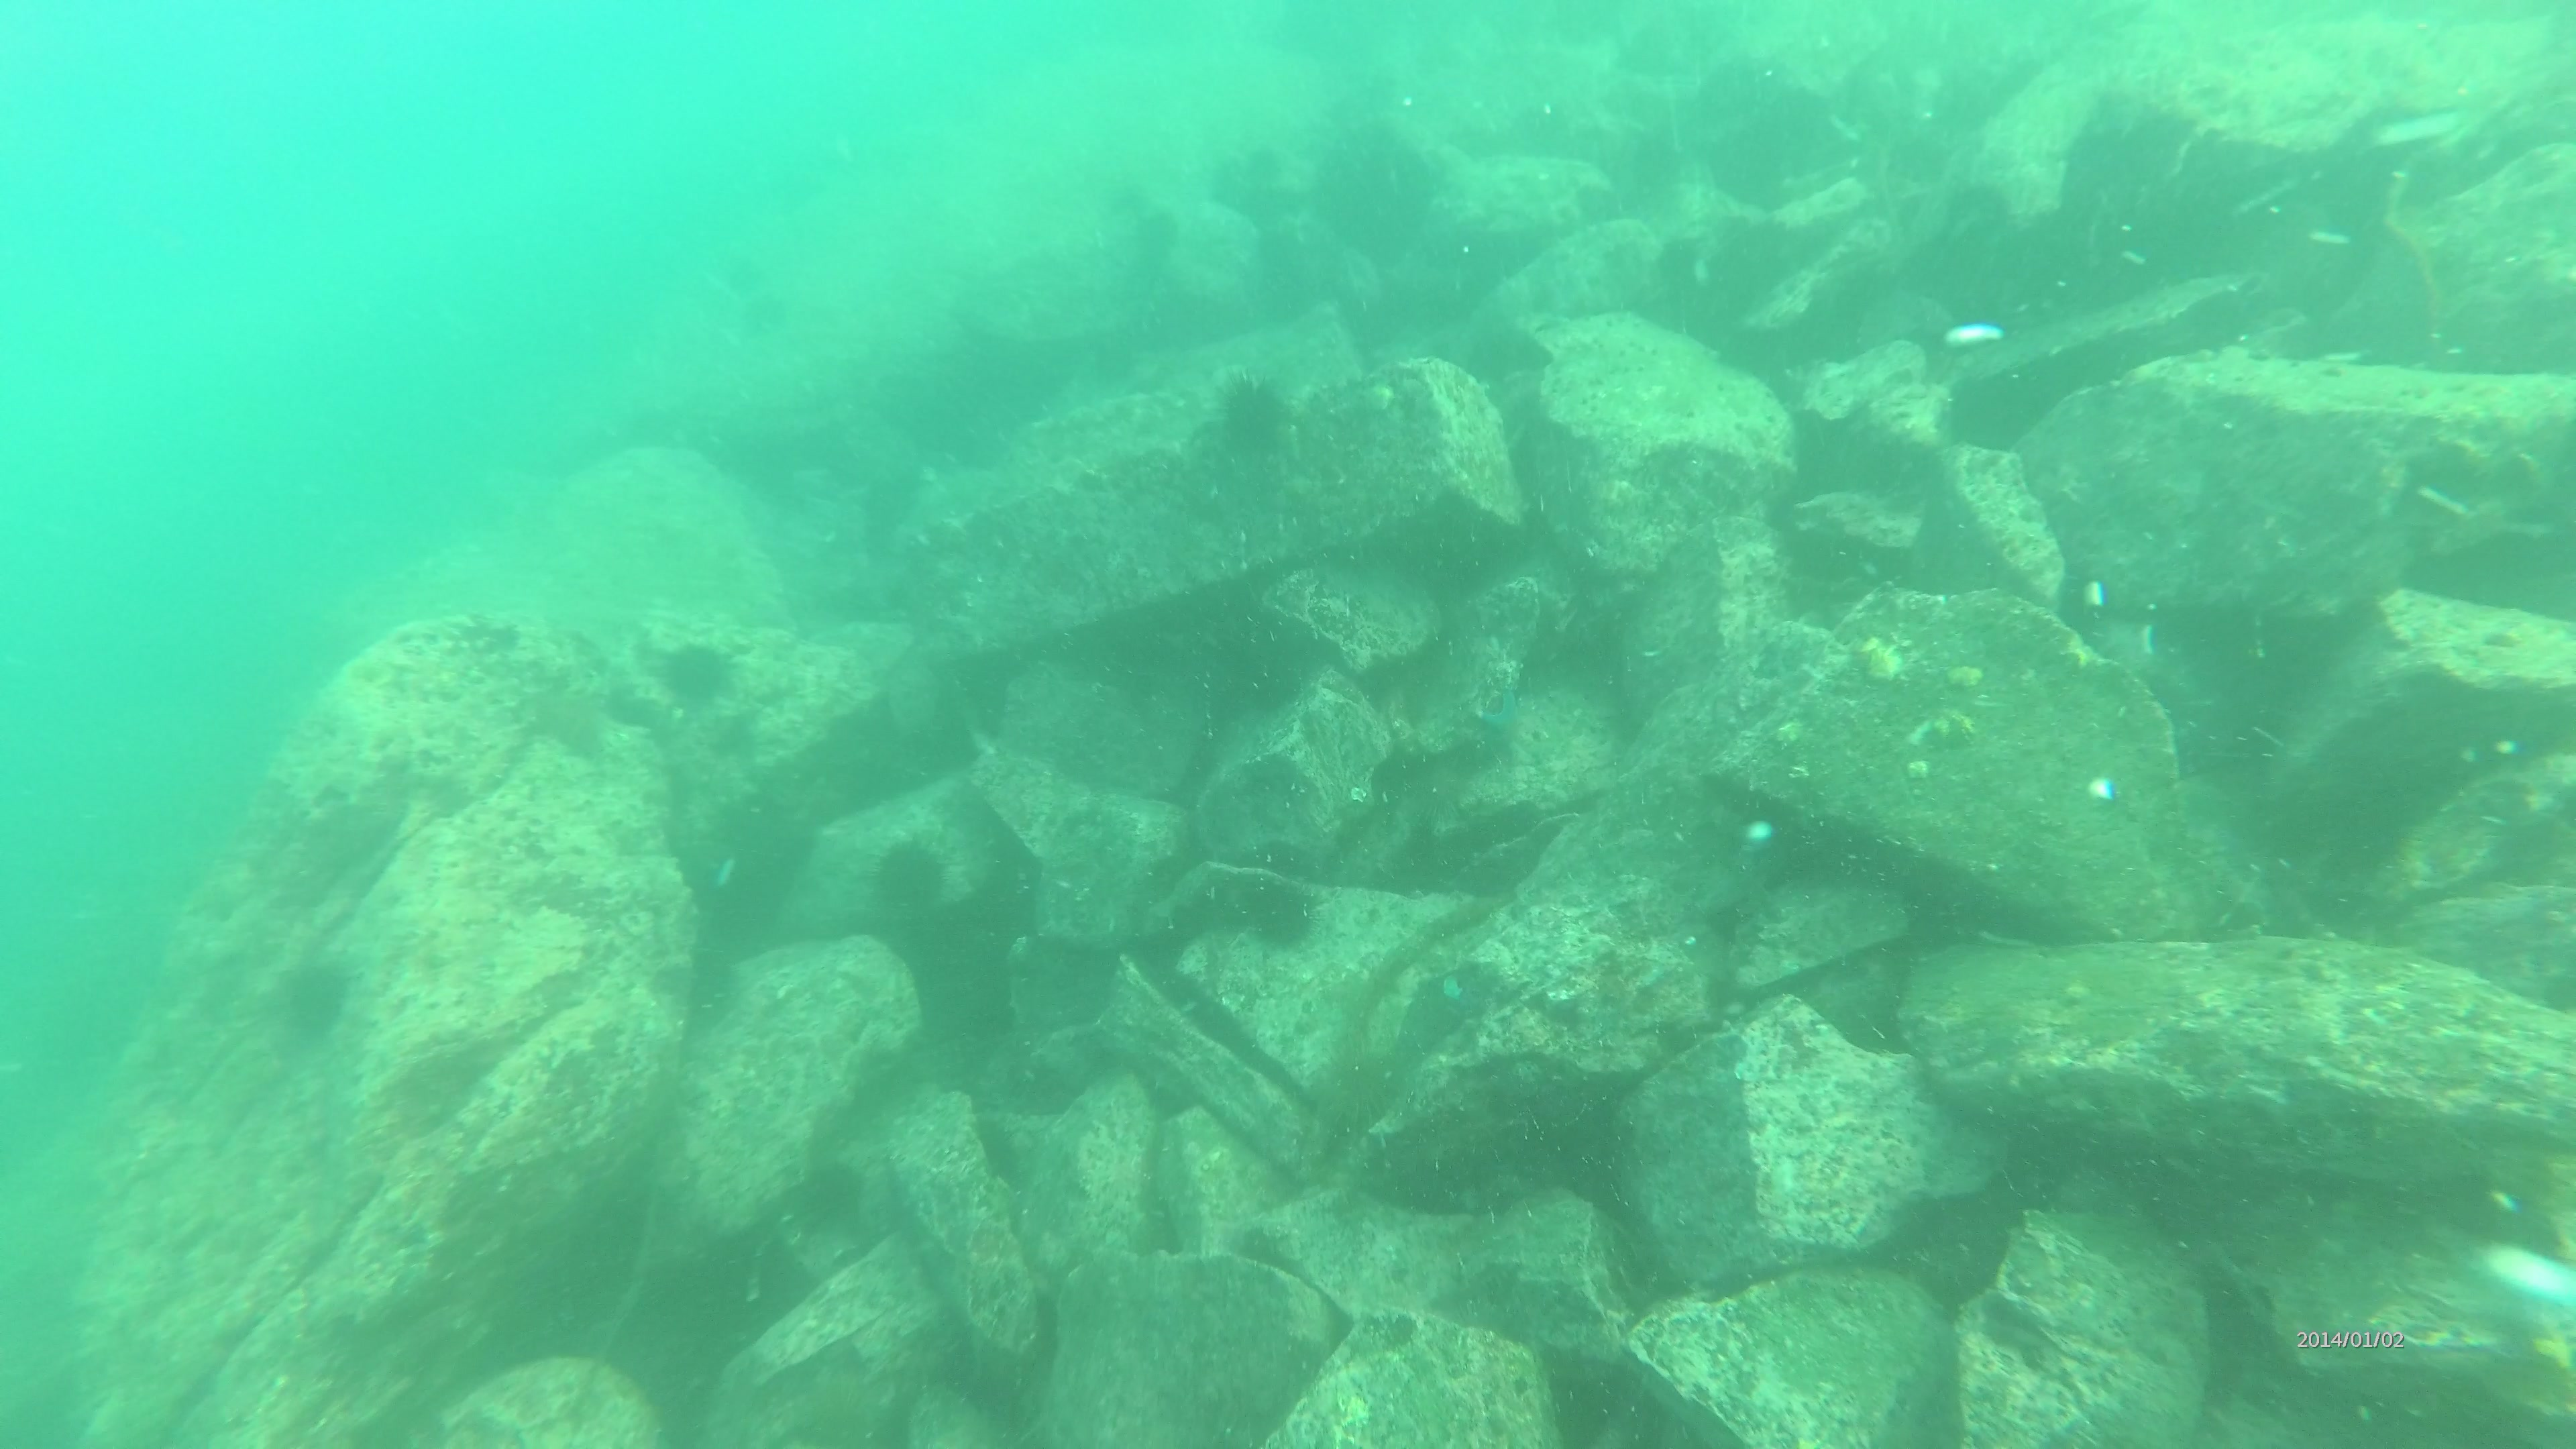echinus: (847, 817, 968, 938), (262, 939, 368, 1054), (1205, 361, 1313, 471), (1235, 862, 1343, 952), (648, 637, 741, 713)
